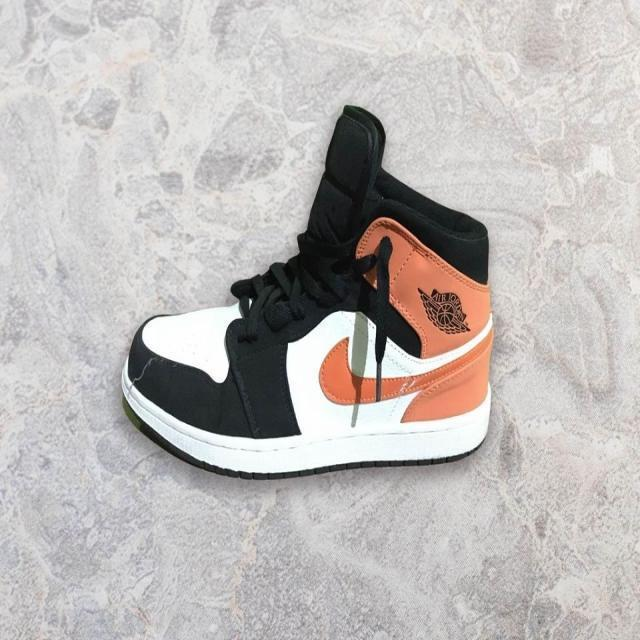nike fake jordan 1: (124, 102, 494, 480)
